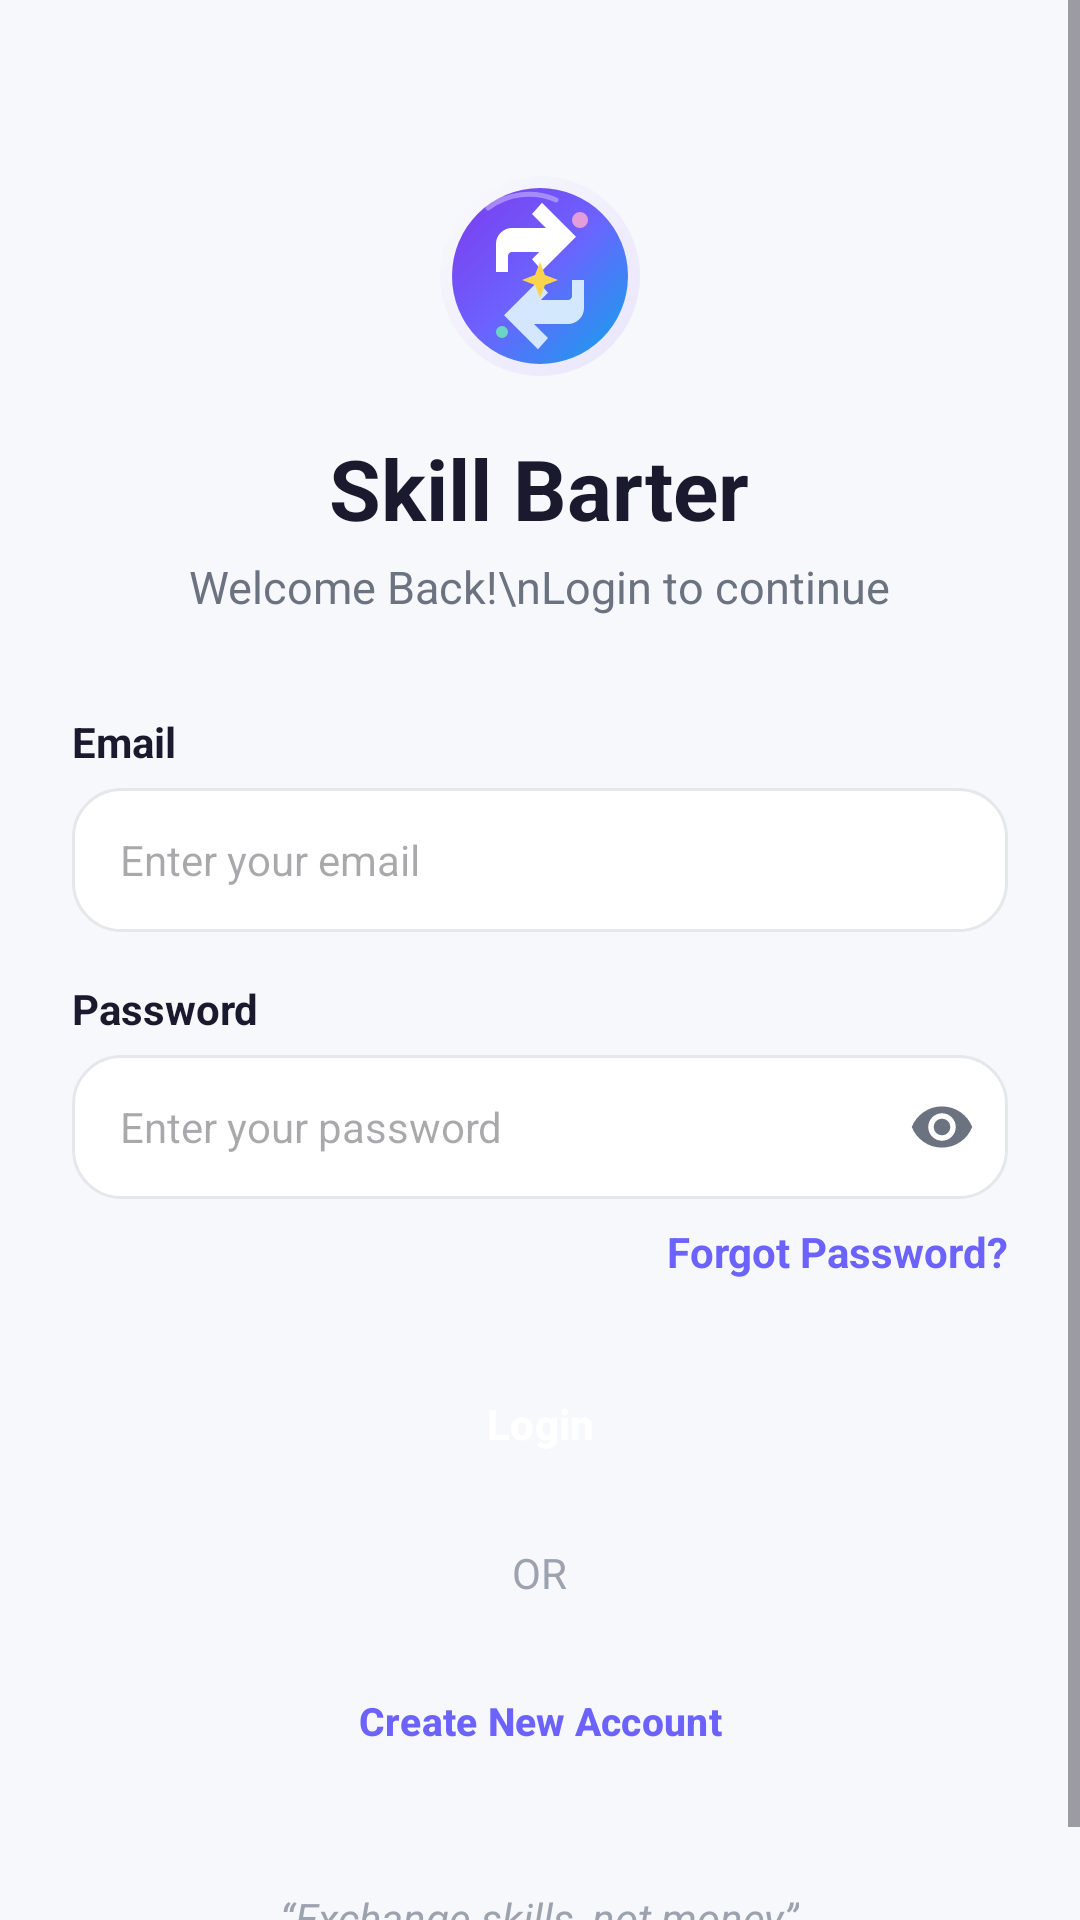

Icons on this 1080x1920 Android screen, each with the point to tap as [x,y]:
Show password: [942,1127]
